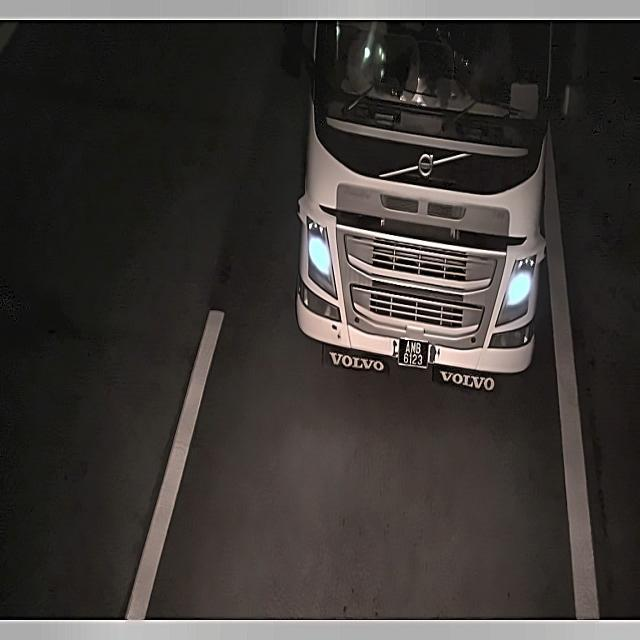car: (394, 334, 437, 376)
